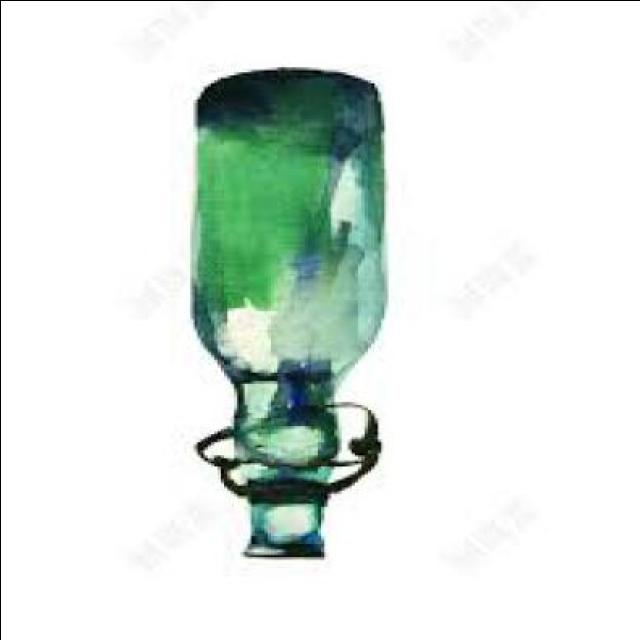kaca: (196, 70, 387, 560)
